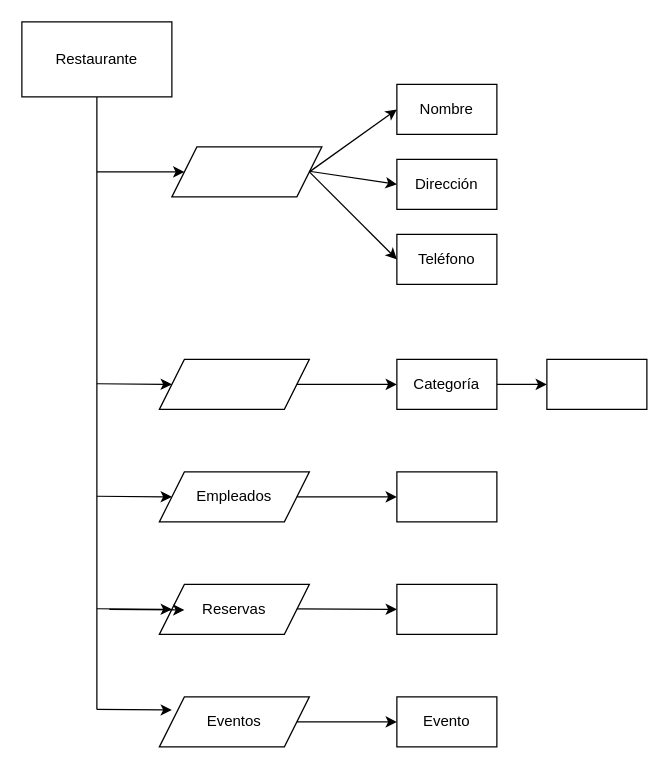
Image size: 669x769. Some labels were removed from this diagram. Each missing label, with the box of its shape:
Empleado: (396, 471, 497, 522)
Información: (171, 146, 322, 197)
Menú: (158, 358, 309, 409)
Plato: (546, 358, 647, 409)
Reserva: (396, 583, 497, 634)
